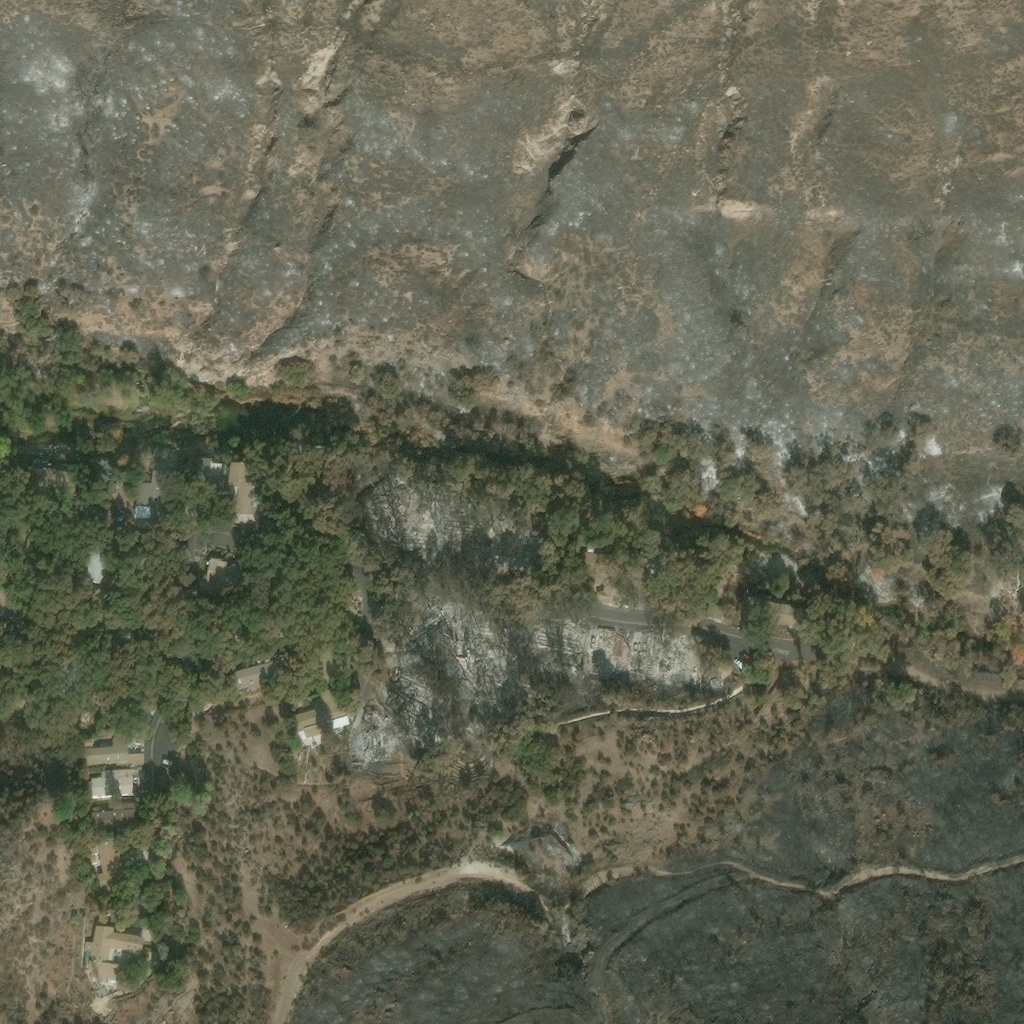0 no-damage: (86, 927, 144, 989), (294, 686, 352, 740), (84, 737, 146, 770), (137, 472, 170, 525), (229, 464, 261, 517), (232, 663, 282, 693), (98, 844, 128, 893), (92, 772, 142, 801), (203, 561, 241, 597), (764, 602, 805, 635), (93, 805, 140, 833), (29, 471, 78, 497), (198, 460, 225, 500), (84, 553, 106, 589), (708, 606, 723, 619)
3 destroyed: (350, 713, 390, 773), (411, 612, 450, 647), (526, 627, 558, 664), (587, 629, 614, 672), (634, 633, 660, 677), (385, 667, 420, 699), (662, 648, 691, 683), (523, 504, 546, 534), (617, 664, 626, 678)
4 un-classified: (576, 512, 600, 531)
